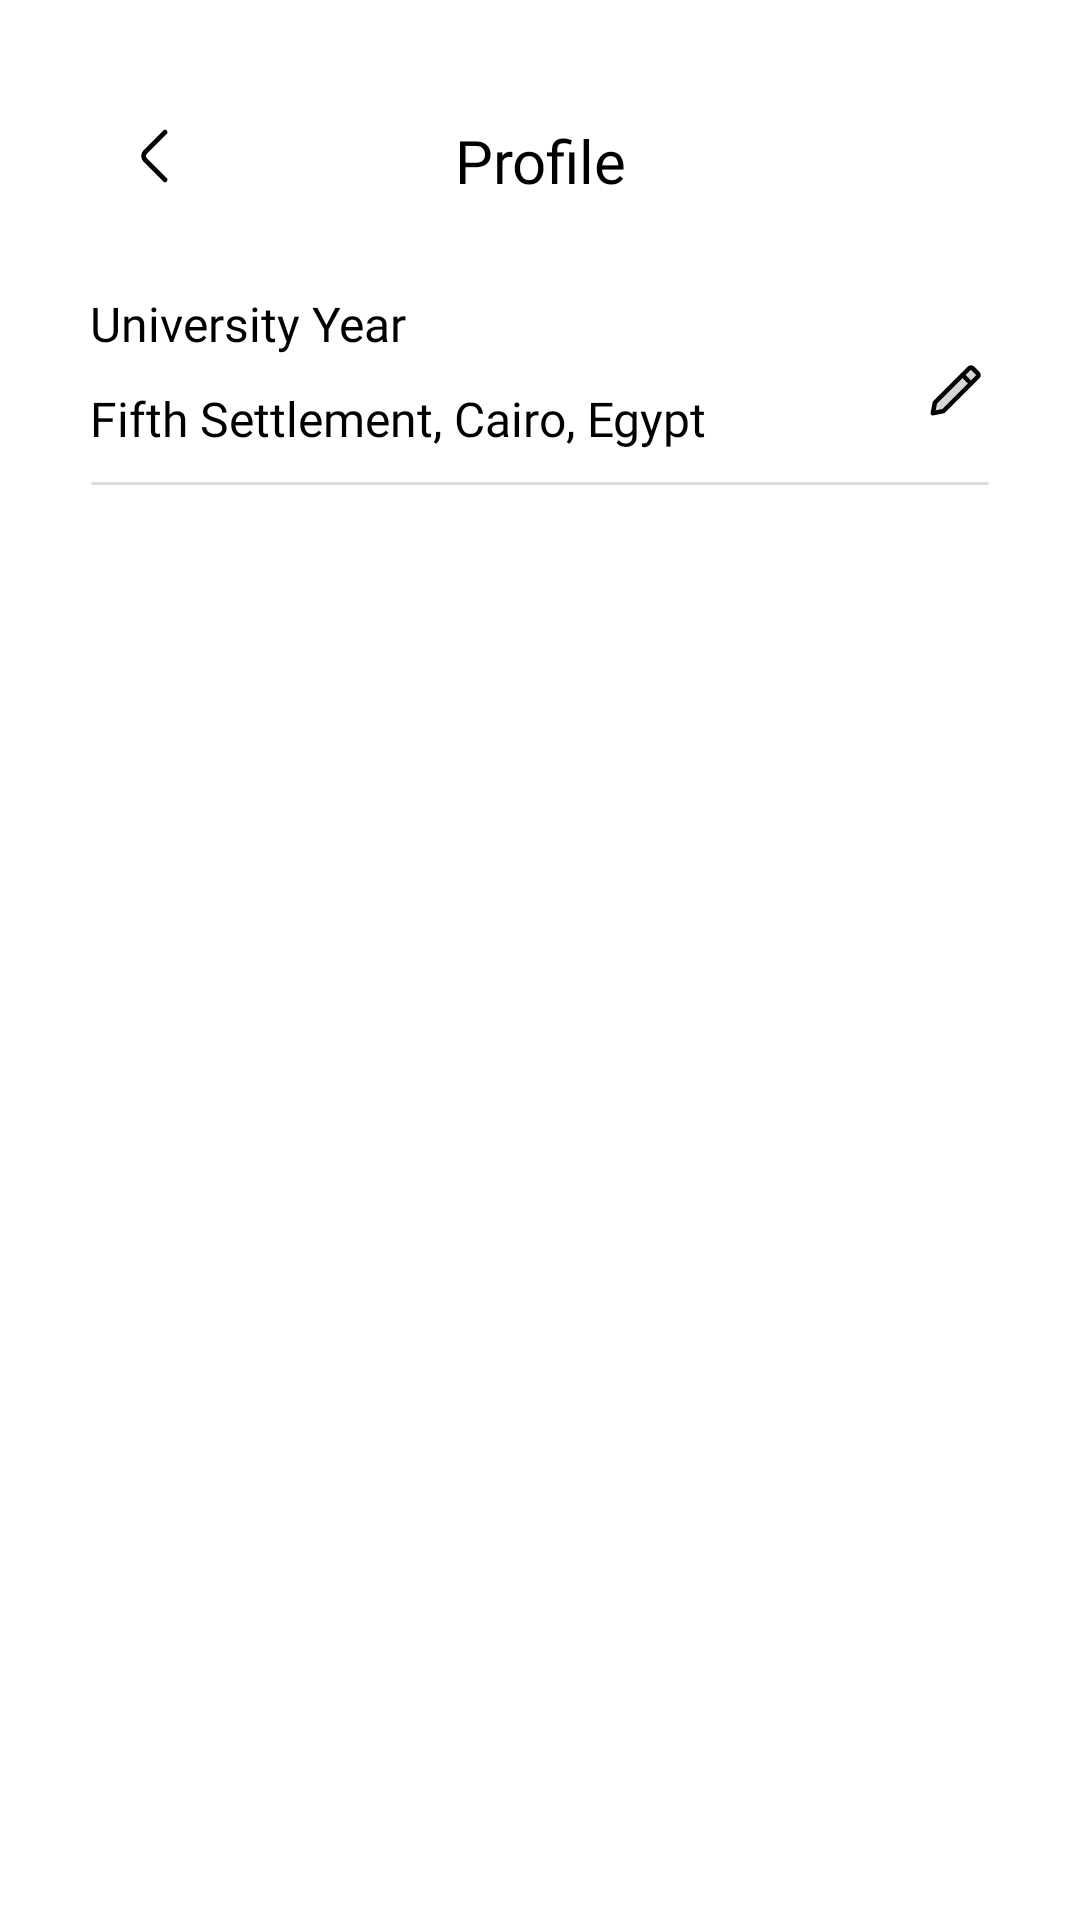

Icon click points for this 1080 x 1920 phone screenshot, format (x=x, y=y):
arrow left: (x=154, y=156)
edit detailed: (x=955, y=390)
